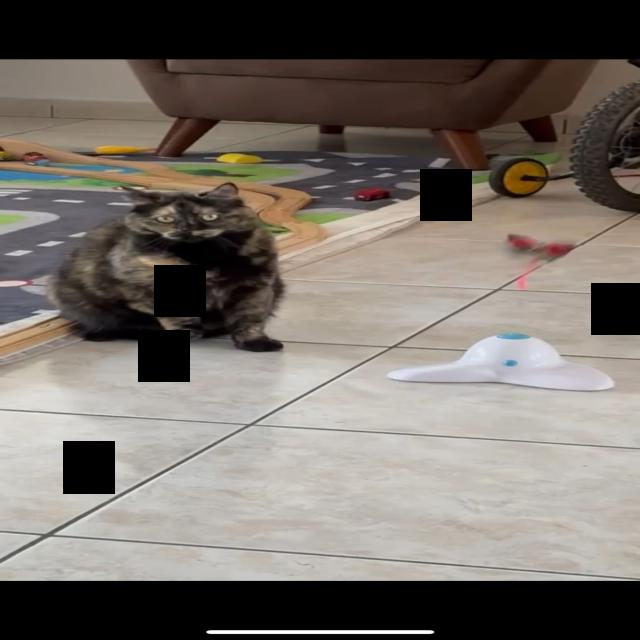authorized: (45, 181, 287, 352)
